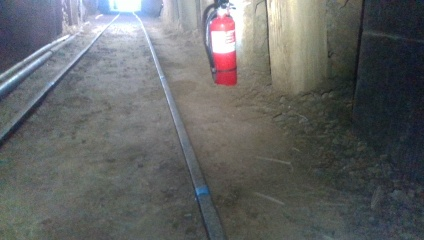fire_extinguisher: (200, 0, 239, 86)
